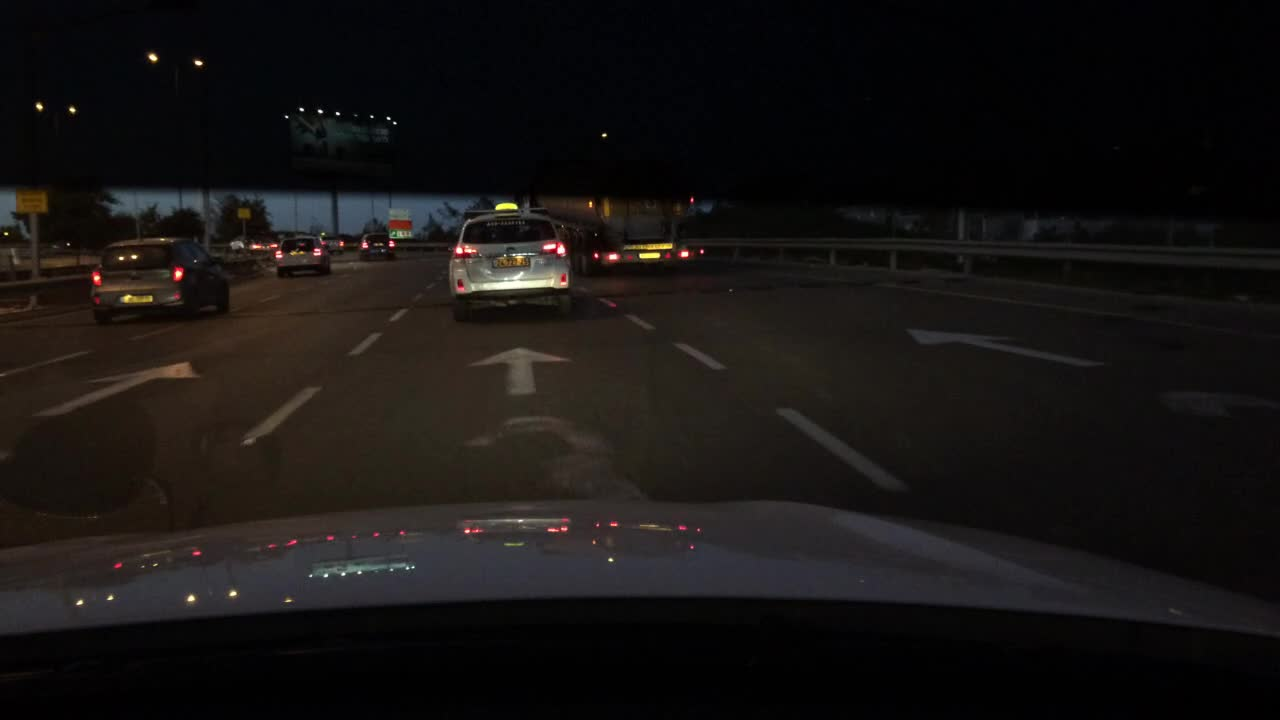car: (448, 201, 574, 324), (90, 235, 231, 327), (273, 238, 331, 278), (548, 214, 583, 271), (2, 236, 36, 271), (357, 235, 394, 262), (317, 231, 345, 257), (584, 226, 595, 271), (41, 236, 69, 250), (223, 240, 244, 254), (245, 240, 263, 255), (263, 240, 280, 254)
traffic sign: (16, 189, 48, 214), (237, 207, 252, 221)
truck: (577, 198, 700, 273)
